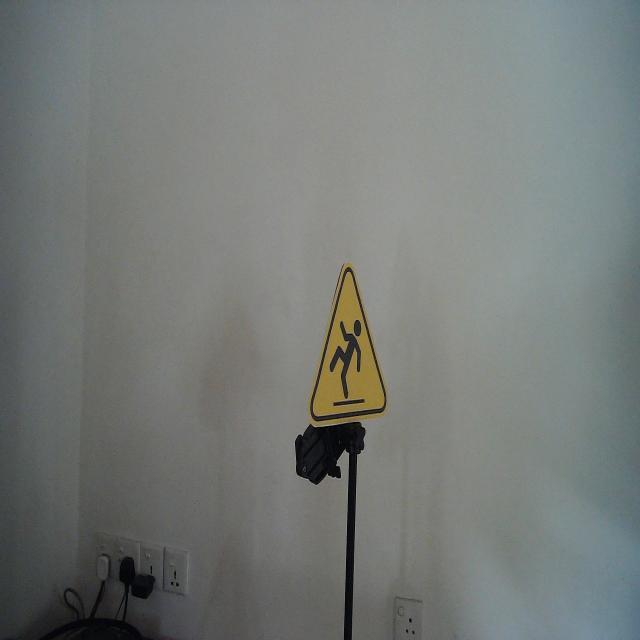slippery_sign: (306, 258, 391, 431)
